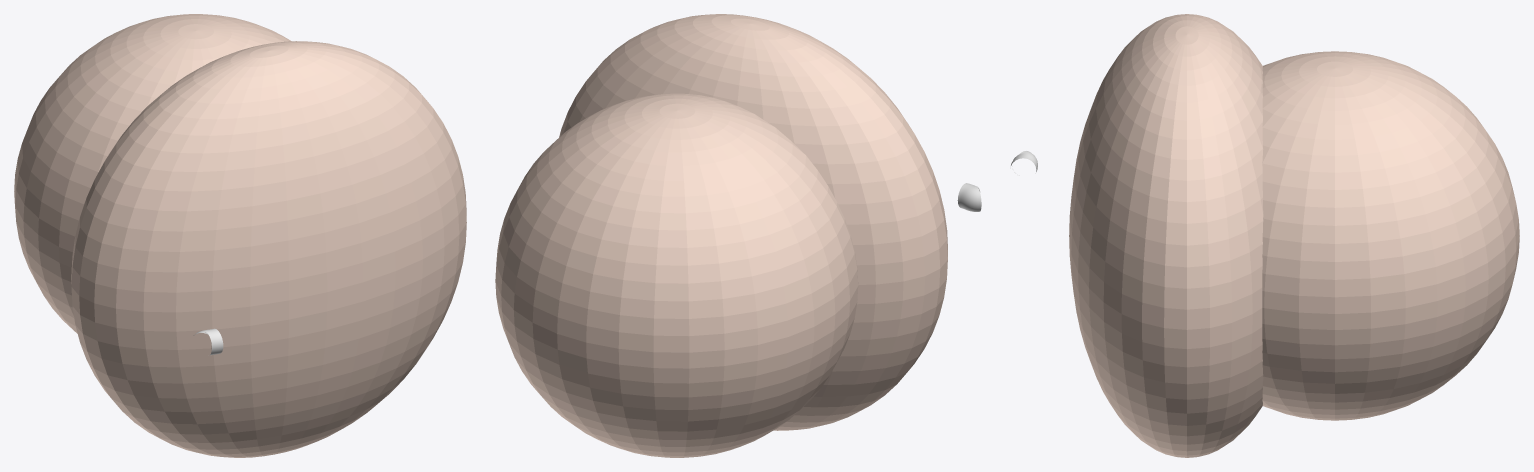
File: fetus_week_20.glb
3 renders of one model, left to right at view 1: azimuth 30°, elevation 25°; view 2: azimuth 150°, elevation 25°; view 3: azimuth 270°, elevation 25°, orthographic.
Visible parts, largest first — view 1: fetal_body_w20, fetal_head_w20; view 2: fetal_head_w20, fetal_body_w20, BézierCurve; view 3: fetal_head_w20, fetal_body_w20.
Boxes of the visible parts, left/top/right/bottom form: fetal_body_w20: left=71, top=41, right=466, bottom=457; fetal_head_w20: left=14, top=14, right=291, bottom=333; fetal_head_w20: left=495, top=93, right=858, bottom=457; fetal_body_w20: left=559, top=14, right=947, bottom=430; BézierCurve: left=957, top=183, right=981, bottom=211; fetal_head_w20: left=1262, top=51, right=1519, bottom=420; fetal_body_w20: left=1069, top=14, right=1263, bottom=457.
Bounding box in the file's own units: 0.2712 × 0.2712 × 0.311.
